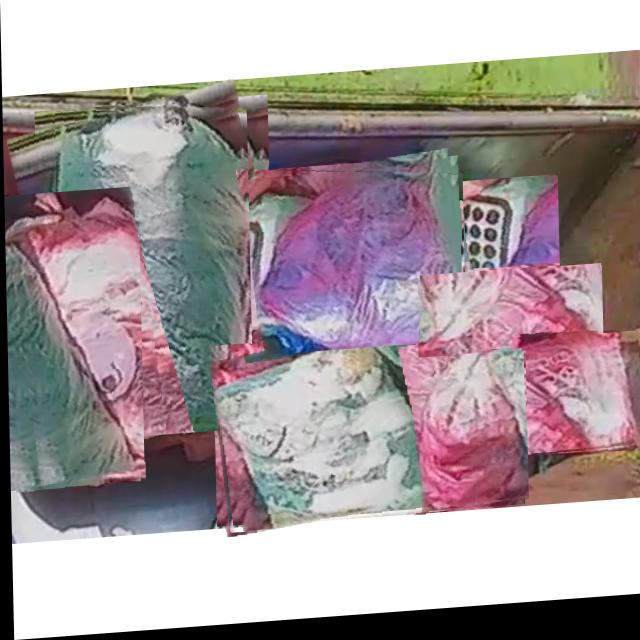general_trashbag: (56, 108, 247, 437), (213, 342, 441, 533), (399, 184, 557, 324)
other_trashbag: (7, 194, 142, 470), (257, 176, 464, 354), (418, 277, 597, 422), (415, 360, 526, 517), (514, 343, 638, 458)
